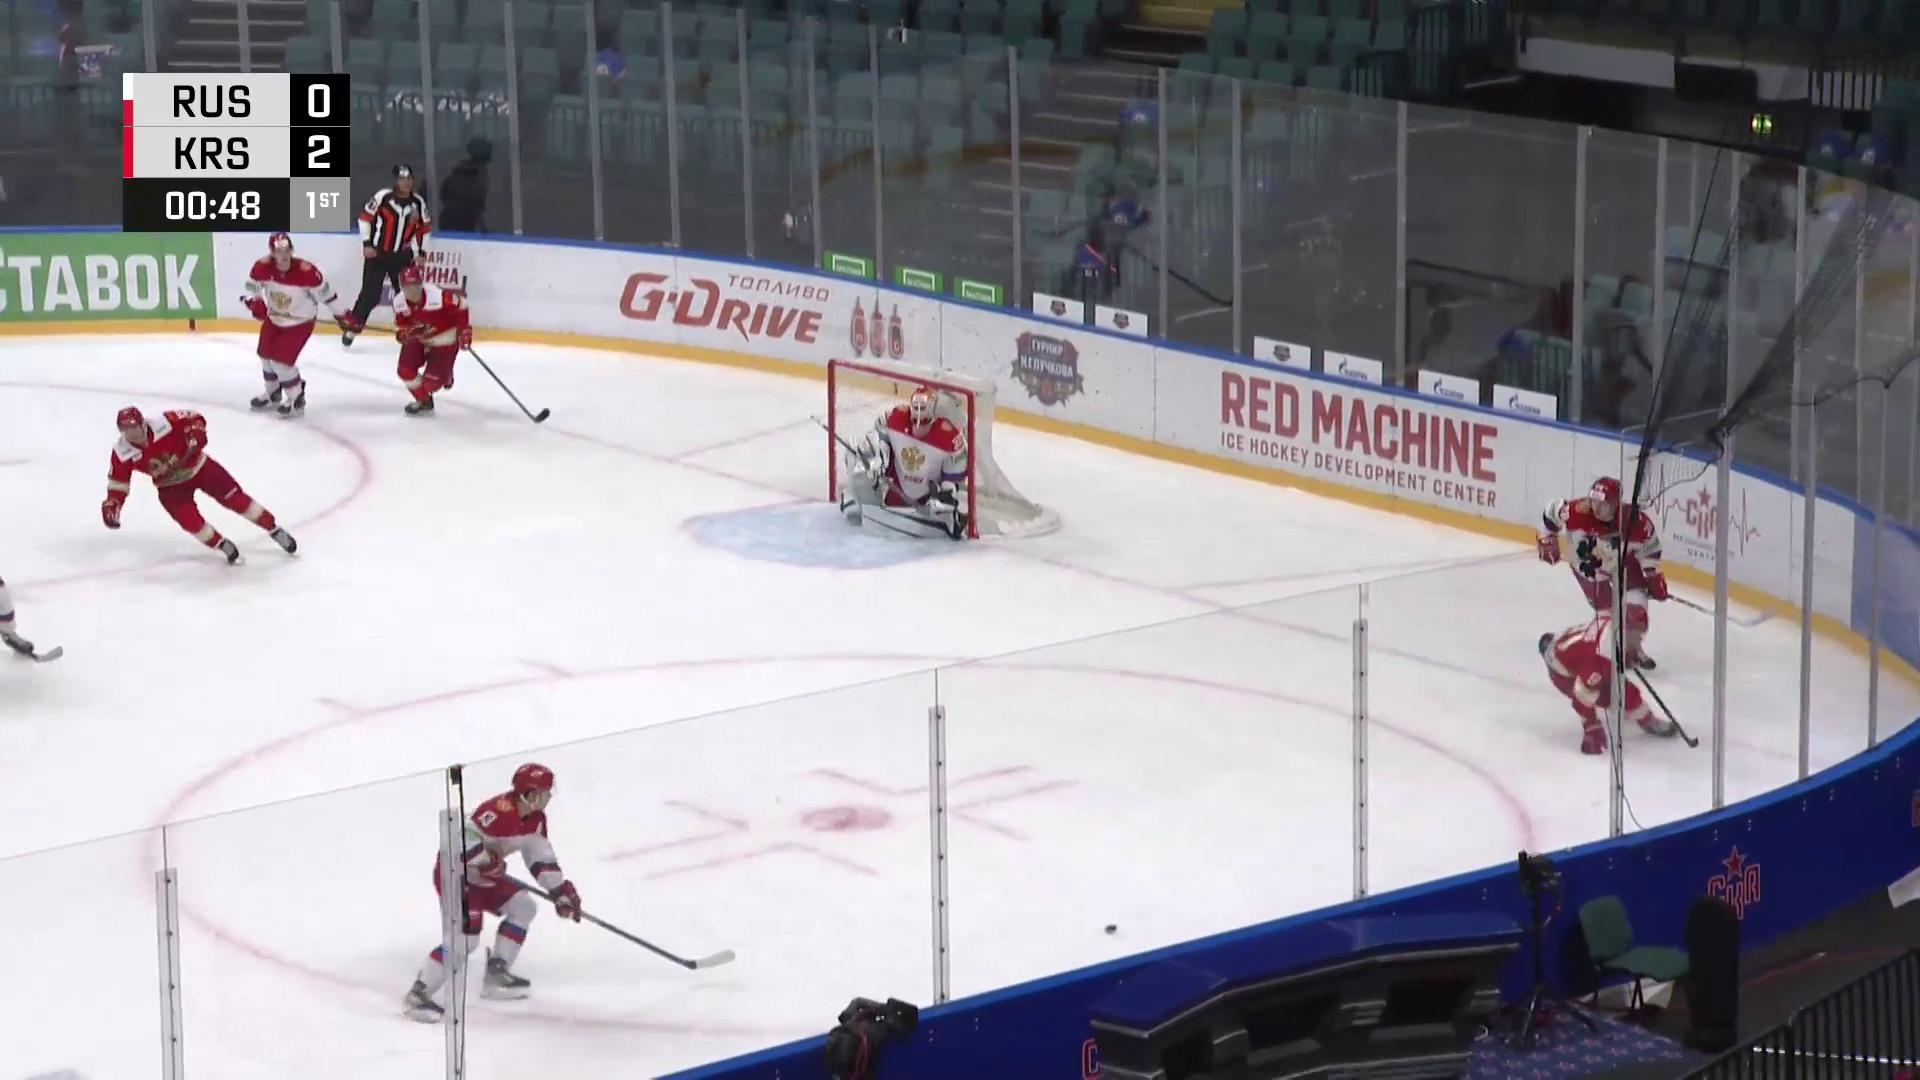ball: (1100, 922, 1125, 938)
